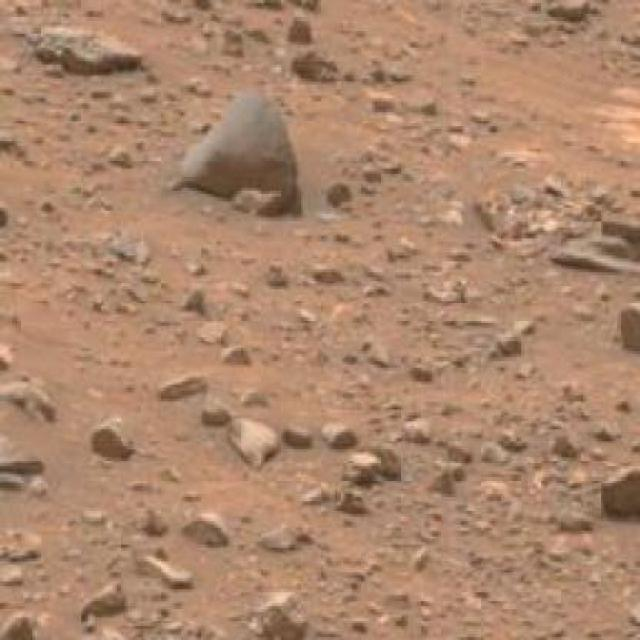rock: (182, 94, 303, 220)
